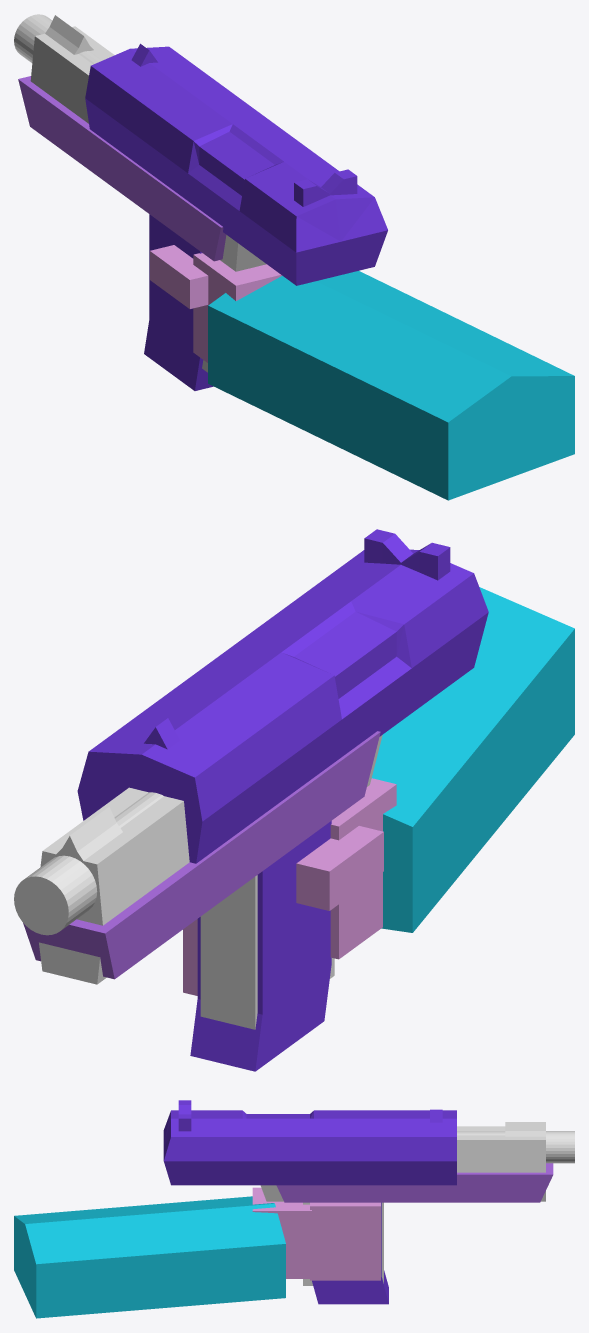
The model's file is gun.dae.
The picture shows the model from 3 angles, top to bottom: view 1: azimuth 30°, elevation 25°; view 2: azimuth 150°, elevation 25°; view 3: azimuth 270°, elevation 25°; orthographic projection. The views are drawn at different scales.
Parts seen in each view (by area): view 1: Cube.003, Cube.008, Cube.004, Cube, Cube.005, Cube.001, Cube.002, Cylinder; view 2: Cube.008, Cube.003, Cube, Cube.004, Cube.005, Cylinder, Cube.002, Cube.001, Cube.009; view 3: Cube.003, Cube.008, Cube.004, Cube.009, Cube, Cube.001, Cube.005, Cylinder.
Boxes of the visible parts, <box> form: Cube.003: <box>208,271,574,500</box>; Cube.008: <box>85,43,387,285</box>; Cube.004: <box>18,76,226,261</box>; Cube: <box>30,15,266,372</box>; Cube.005: <box>144,214,213,390</box>; Cube.001: <box>193,253,281,362</box>; Cube.002: <box>150,245,208,308</box>; Cylinder: <box>14,14,102,64</box>; Cube.008: <box>77,529,488,863</box>; Cube.003: <box>372,587,574,932</box>; Cube: <box>39,735,382,1029</box>; Cube.004: <box>23,731,380,979</box>; Cube.005: <box>190,821,331,1071</box>; Cylinder: <box>14,792,163,935</box>; Cube.002: <box>296,826,383,910</box>; Cube.001: <box>330,778,396,959</box>; Cube.009: <box>183,919,197,995</box>; Cube.003: <box>14,1196,285,1318</box>; Cube.008: <box>163,1100,456,1185</box>; Cube.004: <box>276,1163,553,1202</box>; Cube.009: <box>310,1202,380,1280</box>; Cube: <box>260,1122,545,1285</box>; Cube.001: <box>252,1187,311,1278</box>; Cube.005: <box>312,1202,388,1304</box>; Cylinder: <box>457,1131,574,1163</box>.
Size of the model in its own units: 1.01 by 3.46 by 1.3.
